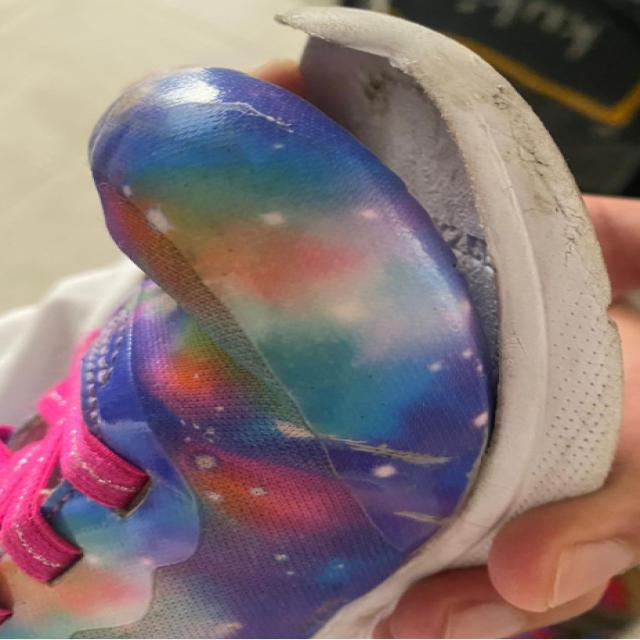bonding: (232, 14, 516, 414)
